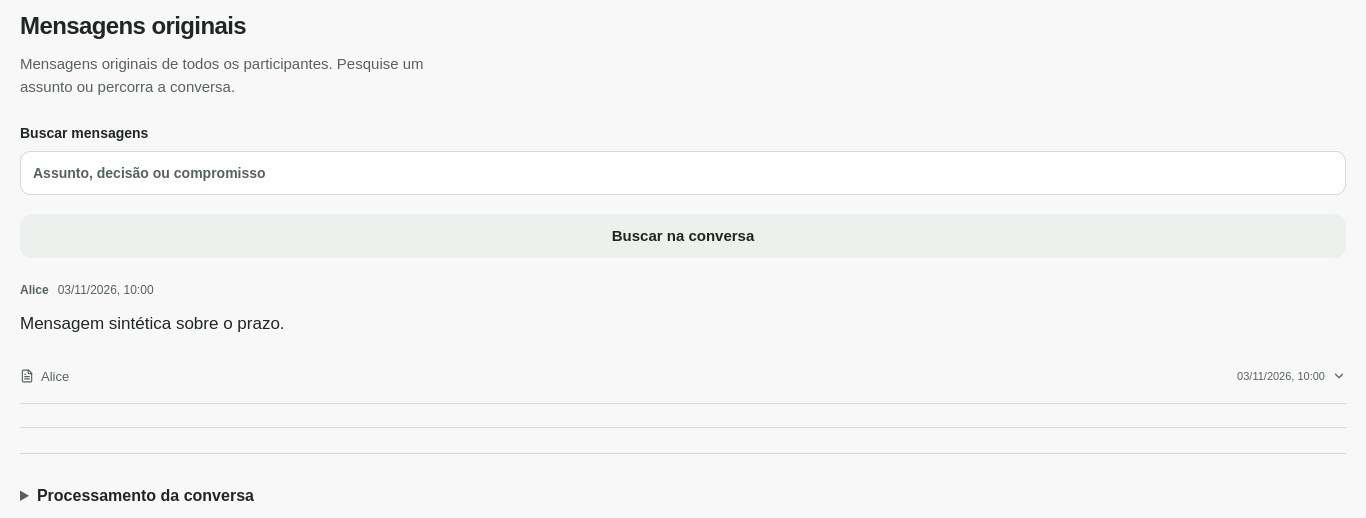
Test: conversation exploration › shows original messages and searches within the selected conversation
Expected: the text "Mensagem sintética sobre o prazo." is shown, [20,314,285,333]
Type "prazo" into the field labelled "Buscar mensagens" at x=683, y=173, box [20,151,1346,195]
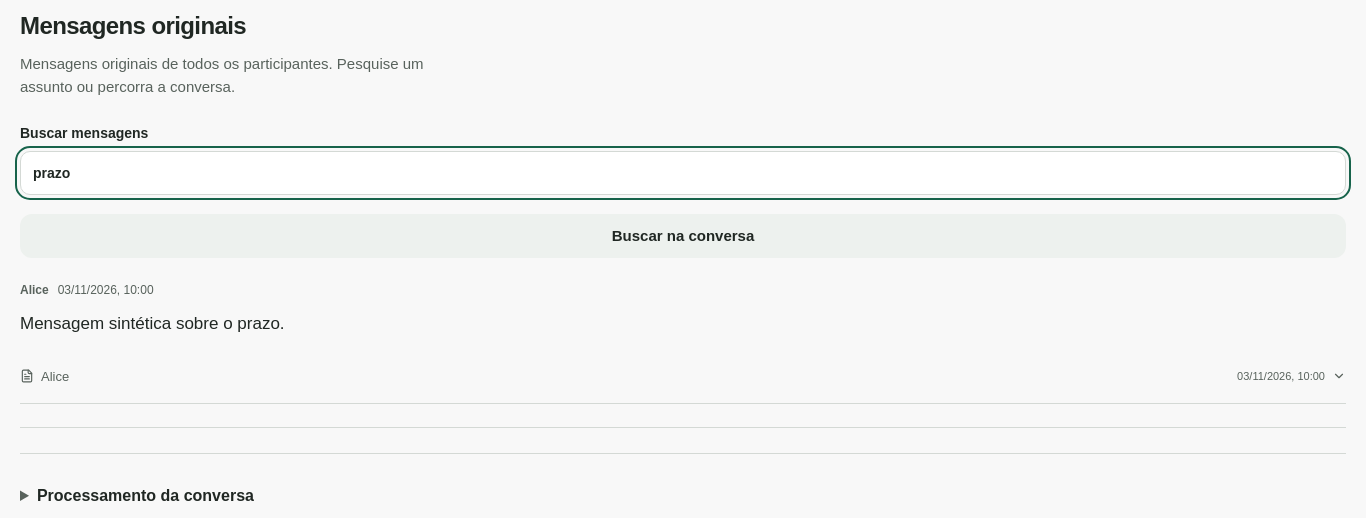
Click the button "Buscar na conversa" at x=683, y=236, box [20,214,1346,258]
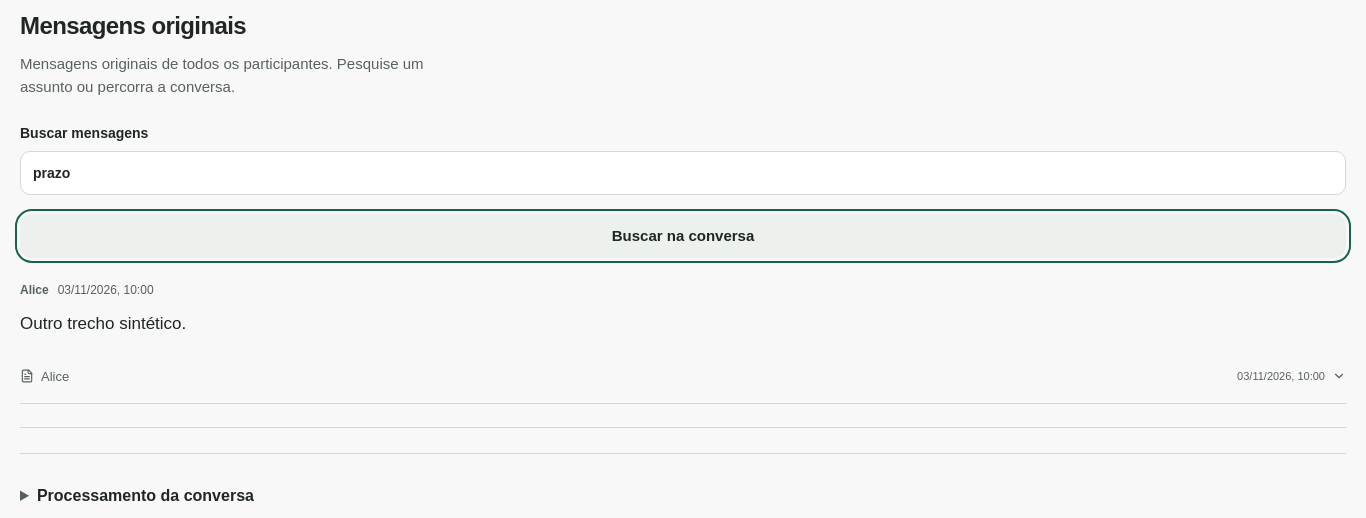
Expected: the text "Outro trecho sintético." is shown, [20,314,186,333]
